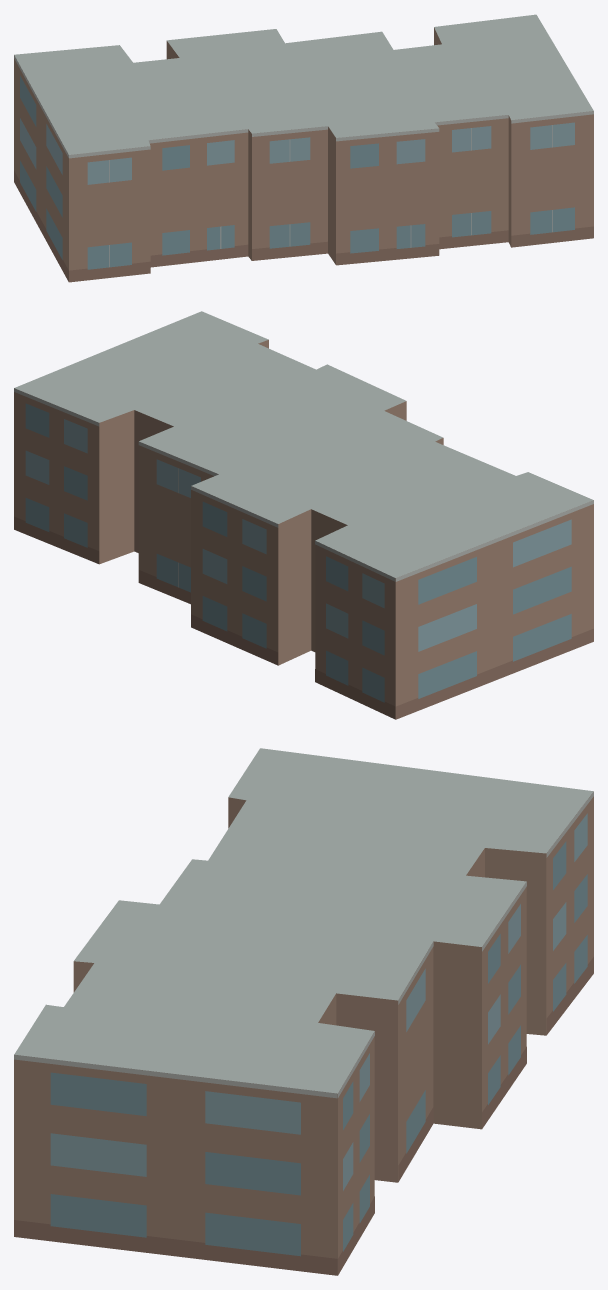
The model's file is survey-upis-32863800.glb.
The picture shows the model from 3 angles, top to bottom: view 1: azimuth 30°, elevation 25°; view 2: azimuth 150°, elevation 25°; view 3: azimuth 270°, elevation 25°; orthographic projection. The views are drawn at different scales.
Parts seen in each view (by area): view 1: survey-upis-32863800.tmp; view 2: survey-upis-32863800.tmp; view 3: survey-upis-32863800.tmp.
Part boxes in pixels (left/top/right/bottom): survey-upis-32863800.tmp: left=14, top=14, right=593, bottom=282; survey-upis-32863800.tmp: left=14, top=311, right=593, bottom=719; survey-upis-32863800.tmp: left=14, top=748, right=593, bottom=1275.
Bounding box in the file's own units: 37.21 × 9.15 × 26.39.
